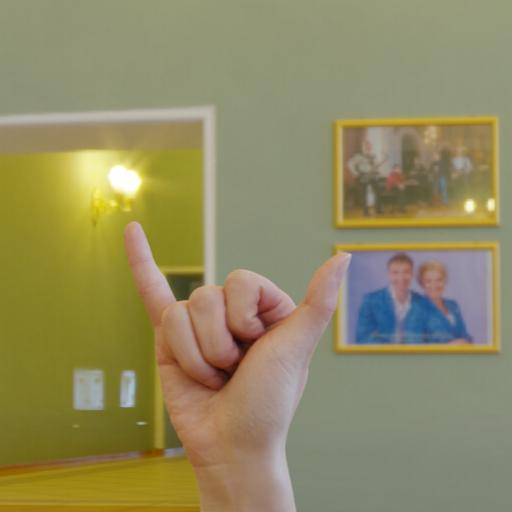Y: (110, 182, 395, 512)
